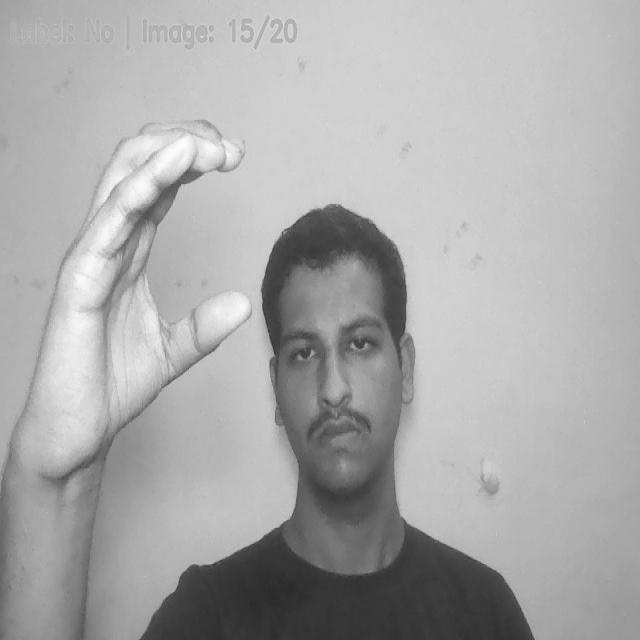No: (15, 113, 251, 504)
